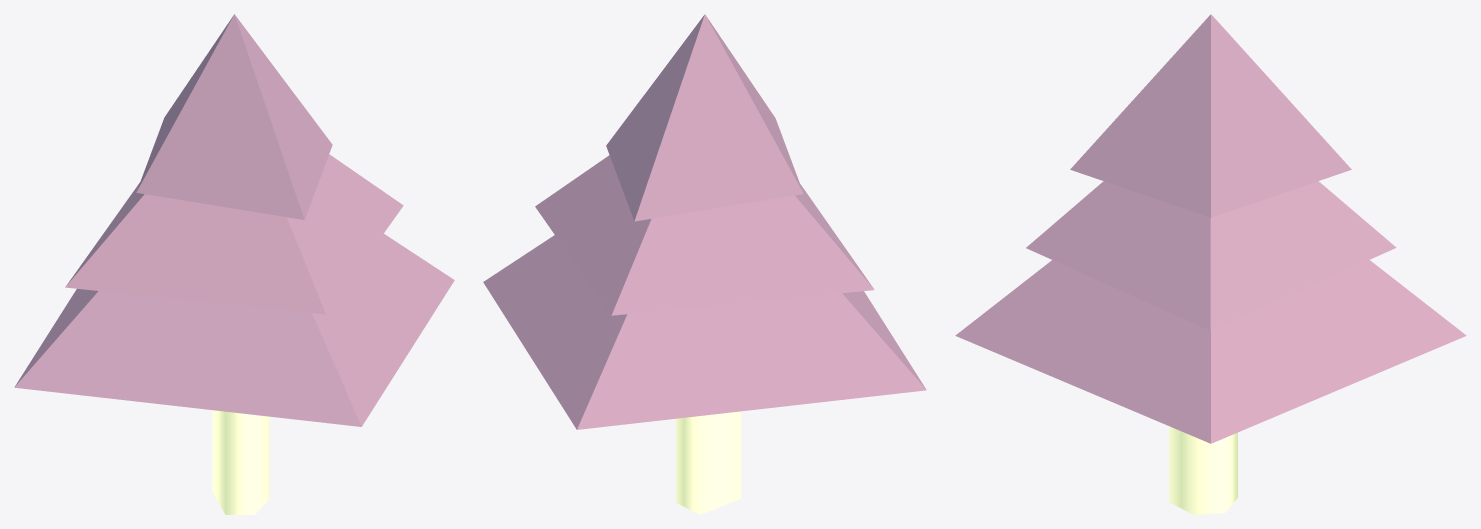
The model's file is Tree3.fbx.
3 renders of one model, left to right at view 1: azimuth 30°, elevation 25°; view 2: azimuth 150°, elevation 25°; view 3: azimuth 270°, elevation 25°, orthographic.
Parts seen in each view (by area): view 1: pPyramid2, pPyramid4, pPyramid3, pCylinder1; view 2: pPyramid2, pPyramid4, pPyramid3, pCylinder1; view 3: pPyramid2, pPyramid4, pPyramid3, pCylinder1.
Boxes of the visible parts, x1=… form: pPyramid2: x1=14, y1=234, x2=454, y2=426; pPyramid4: x1=65, y1=154, x2=403, y2=314; pPyramid3: x1=136, y1=14, x2=332, y2=219; pCylinder1: x1=212, y1=410, x2=268, y2=514; pPyramid2: x1=483, y1=235, x2=926, y2=429; pPyramid4: x1=535, y1=155, x2=874, y2=315; pPyramid3: x1=606, y1=14, x2=803, y2=221; pCylinder1: x1=676, y1=411, x2=741, y2=514; pPyramid2: x1=955, y1=260, x2=1466, y2=443; pPyramid4: x1=1026, y1=181, x2=1396, y2=330; pPyramid3: x1=1070, y1=14, x2=1351, y2=217; pCylinder1: x1=1169, y1=426, x2=1237, y2=514.
Size of the model in its own units: 14.07 by 14.82 by 14.07.
